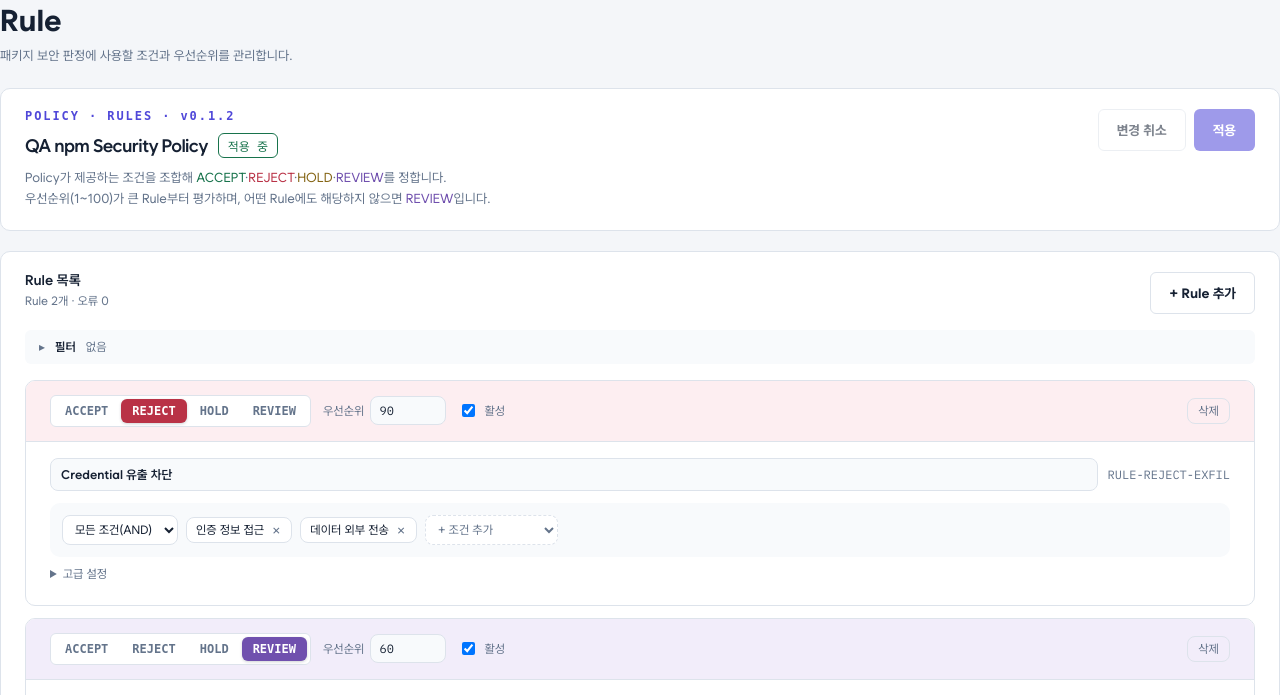
Test case: RulesPage › shows the server message and issues when applying fails
The image size is (1280, 695).
Replace the text in the field named "RULE-REJECT-EXFIL 이름" with "유출 차단" at (574, 474), box [50,458,1098,491]
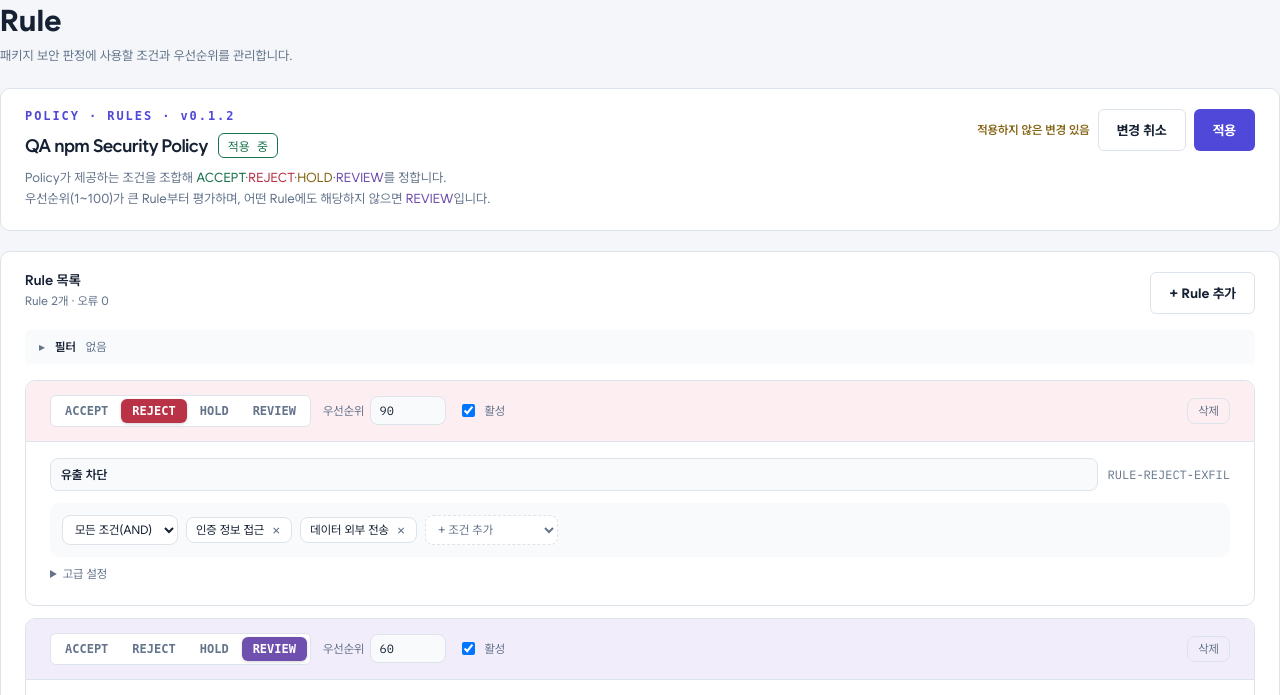
Click the button "적용" at (1224, 130), box [1194,109,1255,151]
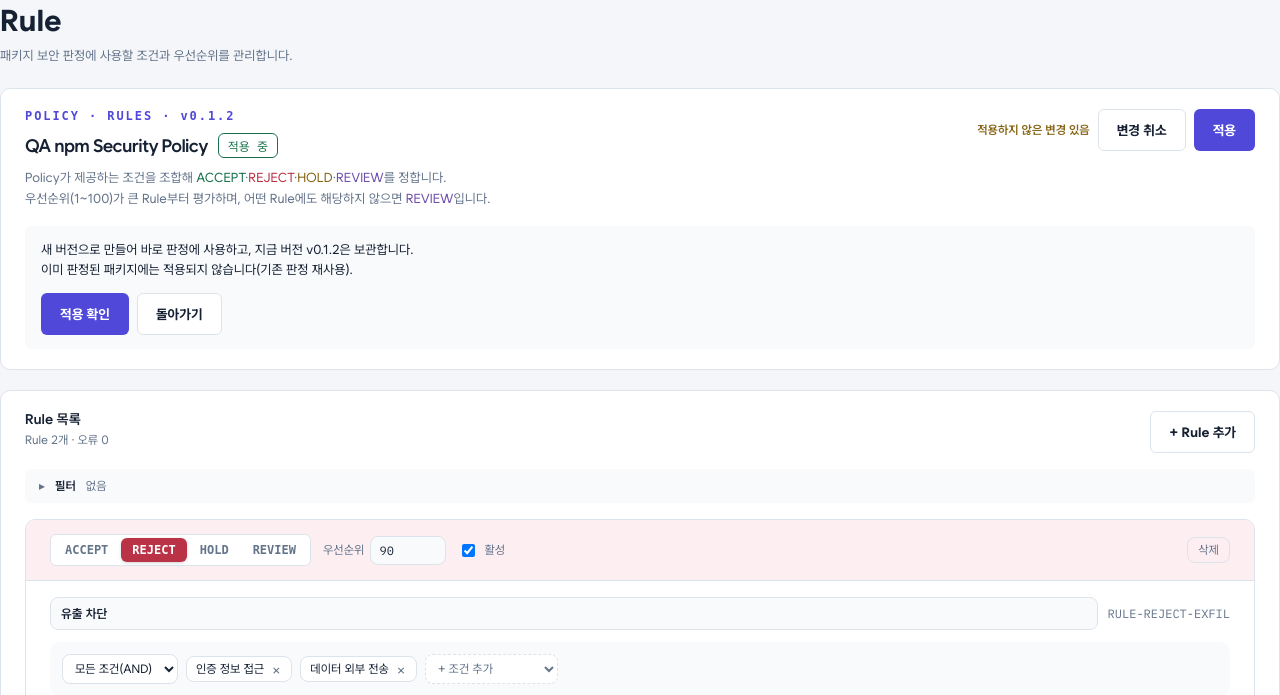
Click the button "적용 확인" at (85, 314), box [41,293,129,335]
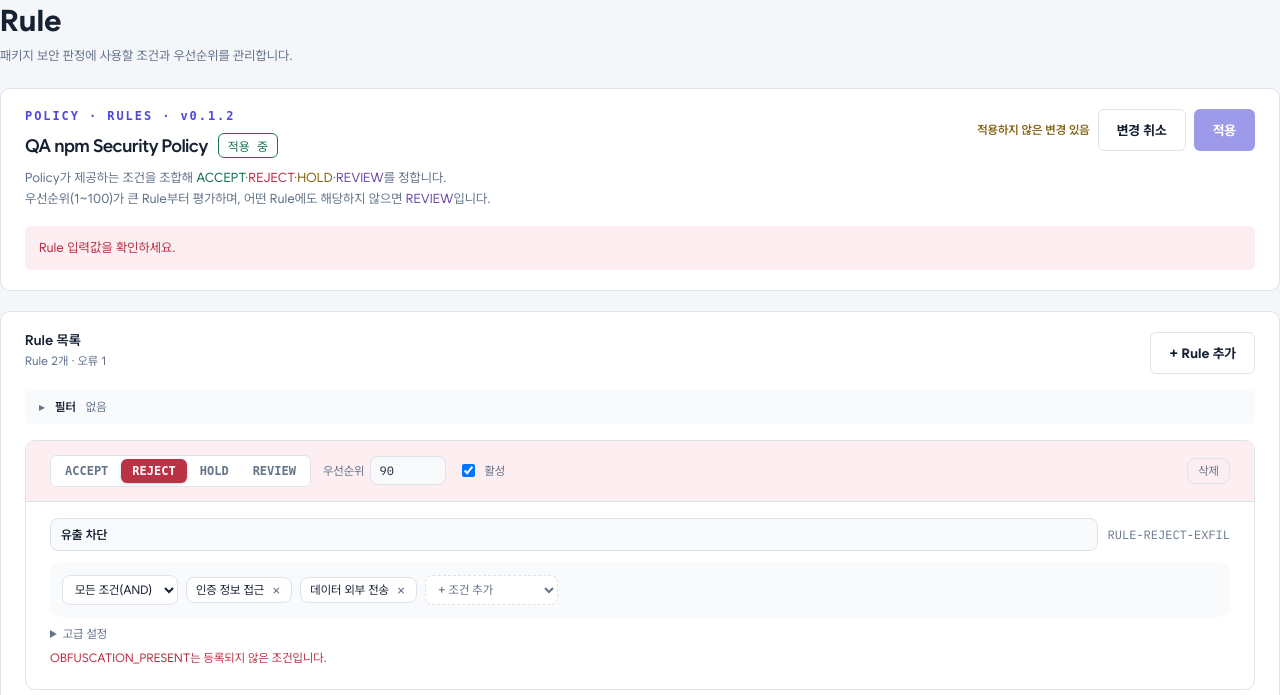
Check: the message reads "Rule 입력값을 확인하세요.", box [39,240,176,255]
Check: the list item "OBFUSCATION_PRESENT는 등록되지 않은 조건입니다." is shown, box [50,651,327,665]
Replace the text in the field named "RULE-REJECT-EXFIL 이름" with "유출 차단!" at (574, 534), box [50,518,1098,551]
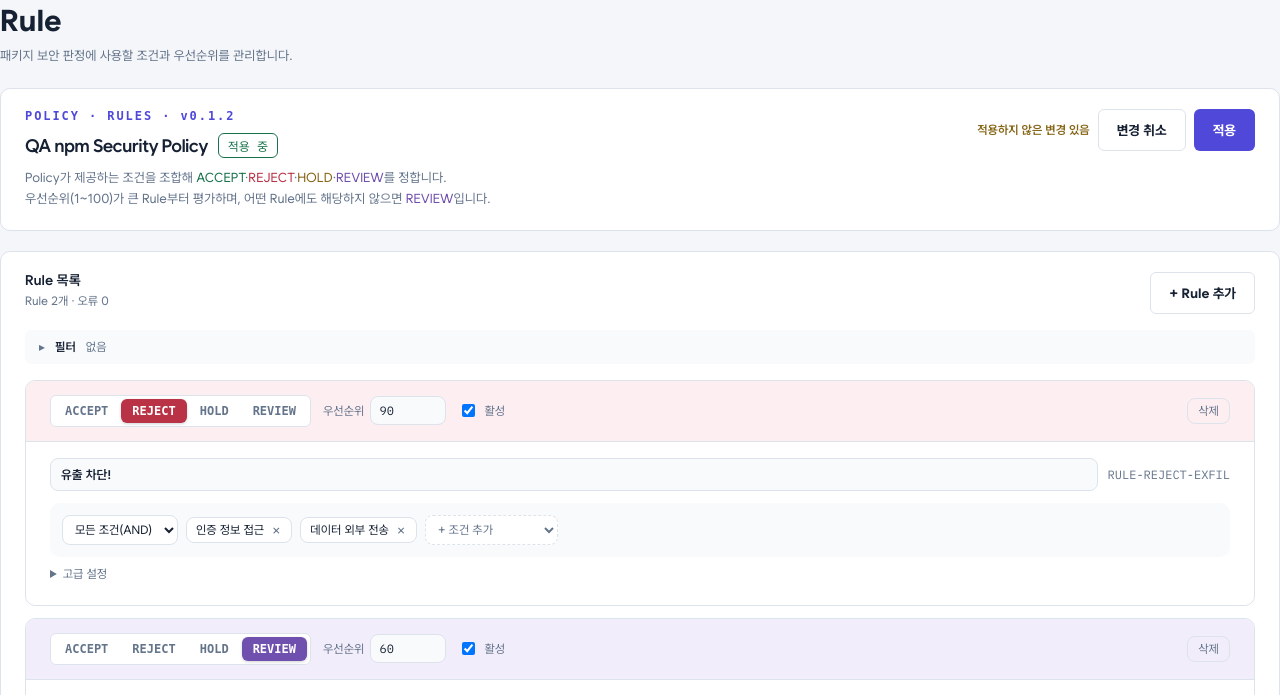
Click the button "적용" at (1224, 130), box [1194,109,1255,151]
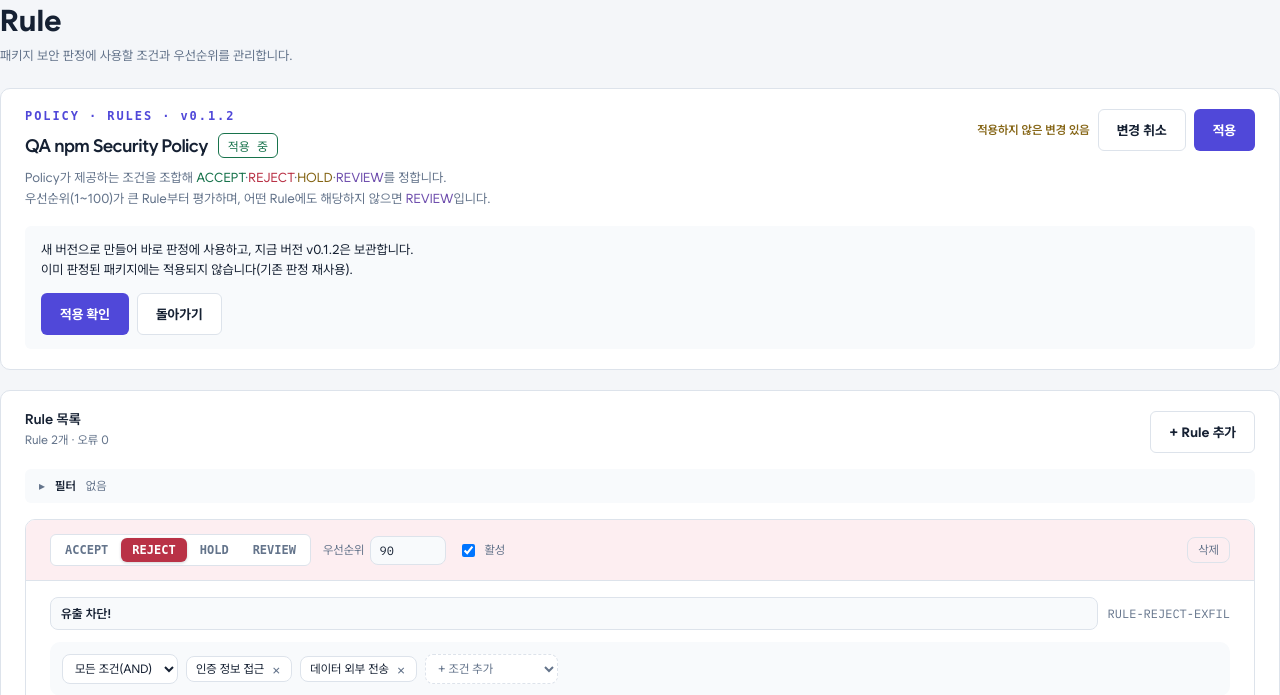
Click the button "적용 확인" at (85, 314), box [41,293,129,335]
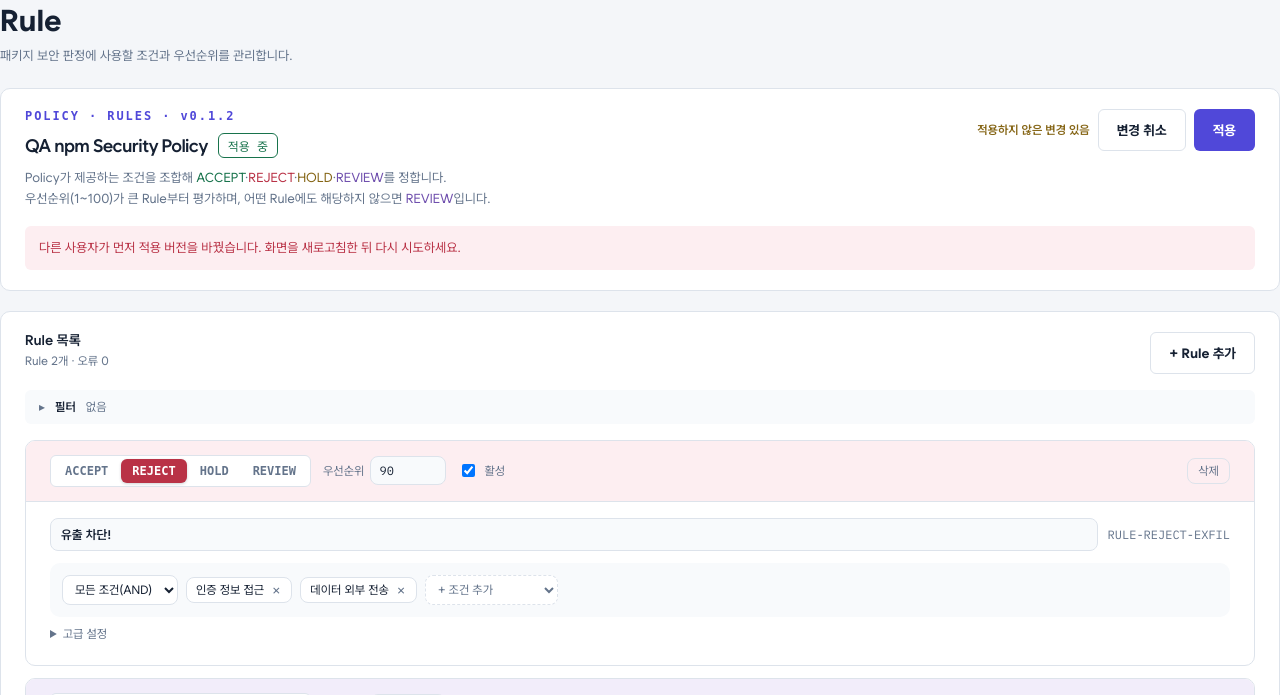
Check: the message shows "다른 사용자가 먼저 적용 버전을 바꿨습니다", box [39,240,461,255]
